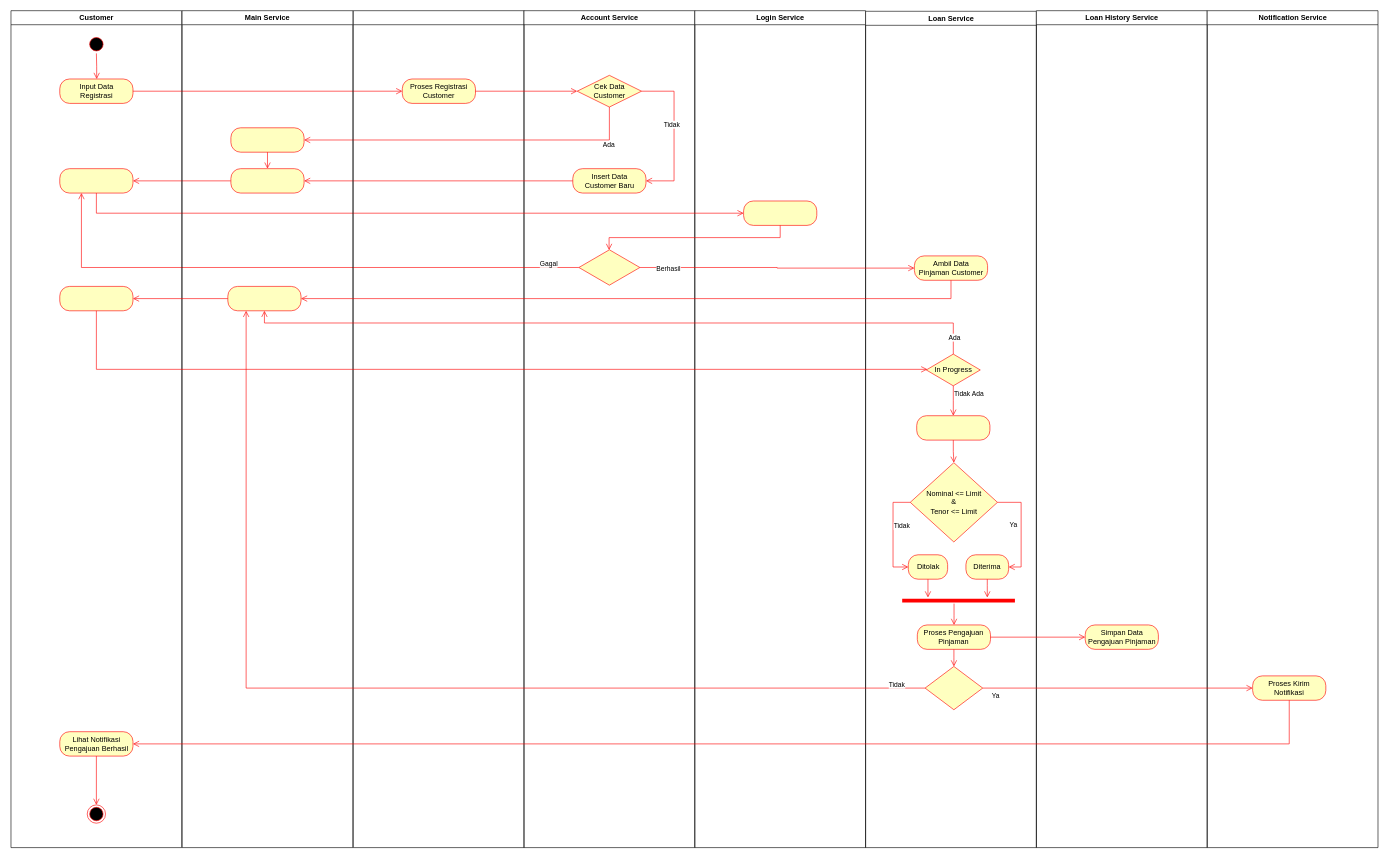
Image size: 1388x858. Some labels were removed from this diagram. Here are the shapes that lost their labels. From the top down, the box of each, then its label:
(230, 127, 304, 152): Tampilkan Data Sudah Ada
(59, 168, 133, 193): Input Data Login
(230, 168, 304, 193): Arahkan Proses Login
(743, 200, 817, 225): Proses Login
(578, 249, 640, 285): Verifikasi Akun
(59, 286, 133, 311): Pengajuan Pinjaman
(227, 286, 301, 311): Tampilkan Data Akun dan Pinjaman
(353, 10, 524, 848): Registration Service
(916, 415, 990, 440): Proses Pinjaman
(924, 666, 983, 710): Pengajuan Berhasil
